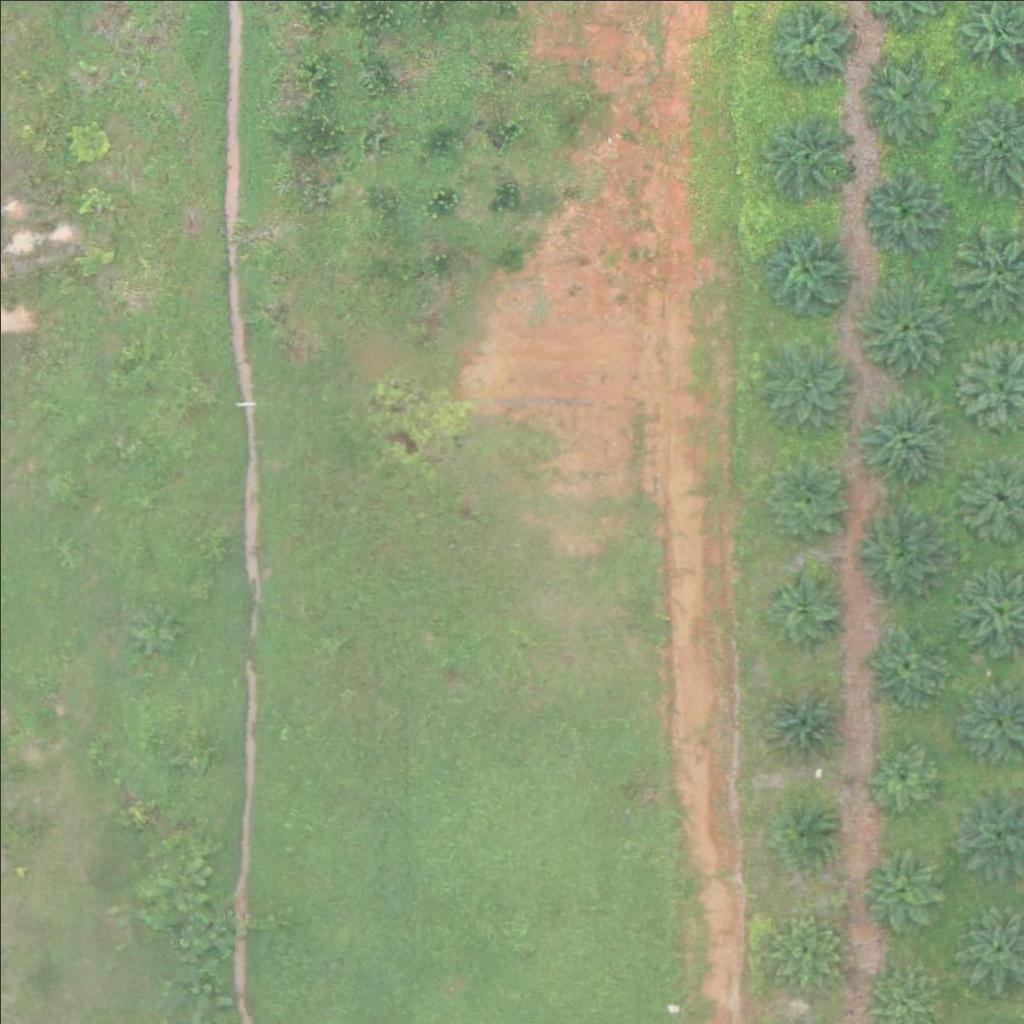Kelapa_Sawit: (847, 388, 947, 489), (854, 277, 954, 378), (755, 218, 855, 319), (851, 500, 951, 600), (761, 557, 849, 645), (858, 620, 946, 708), (861, 166, 949, 254), (759, 110, 847, 198), (861, 848, 948, 936), (758, 676, 845, 764), (858, 54, 945, 142), (762, 456, 849, 544), (762, 341, 849, 429), (862, 735, 937, 810), (770, 914, 845, 989), (777, 803, 840, 866)
